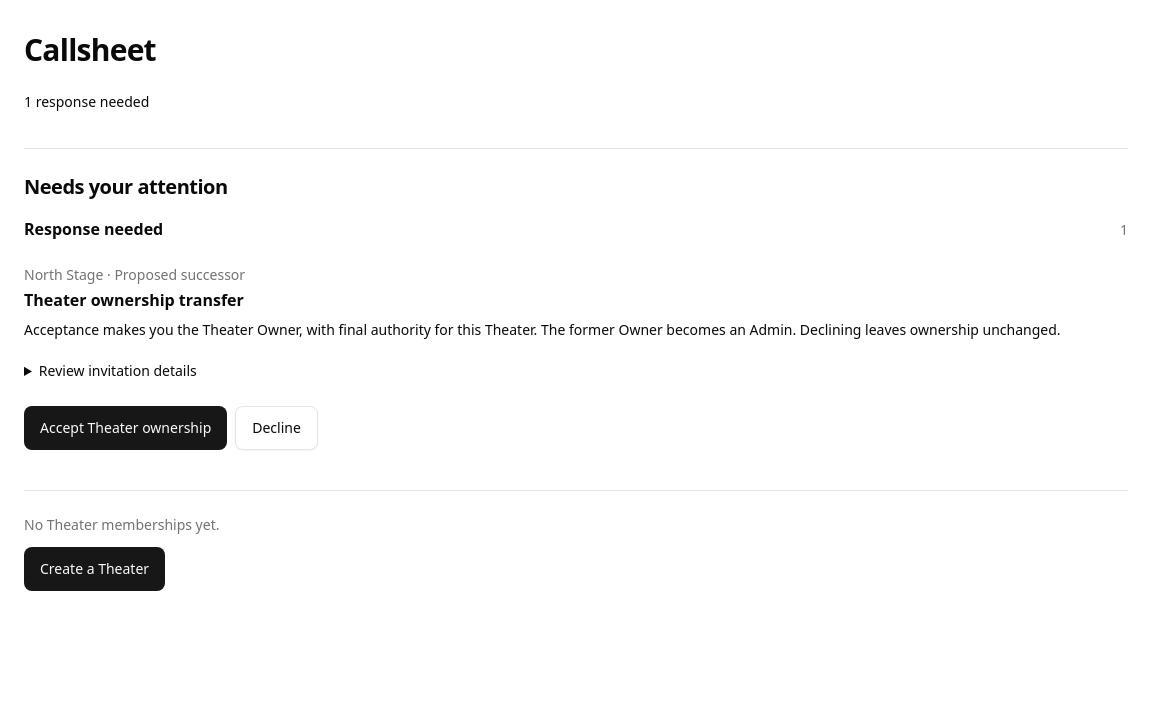
Scenario: explains ownership transfer with the recorded former Owner role admin
The image size is (1152, 720).
Expected: the text "Acceptance makes you the Theater Owner" is shown, [24,320,537,339]
Expected: the text "former Owner becomes an Admin" is shown, [541,320,796,339]
Click the heading "Review invitation details". click: [118, 371]
box: [39,361,197,380]
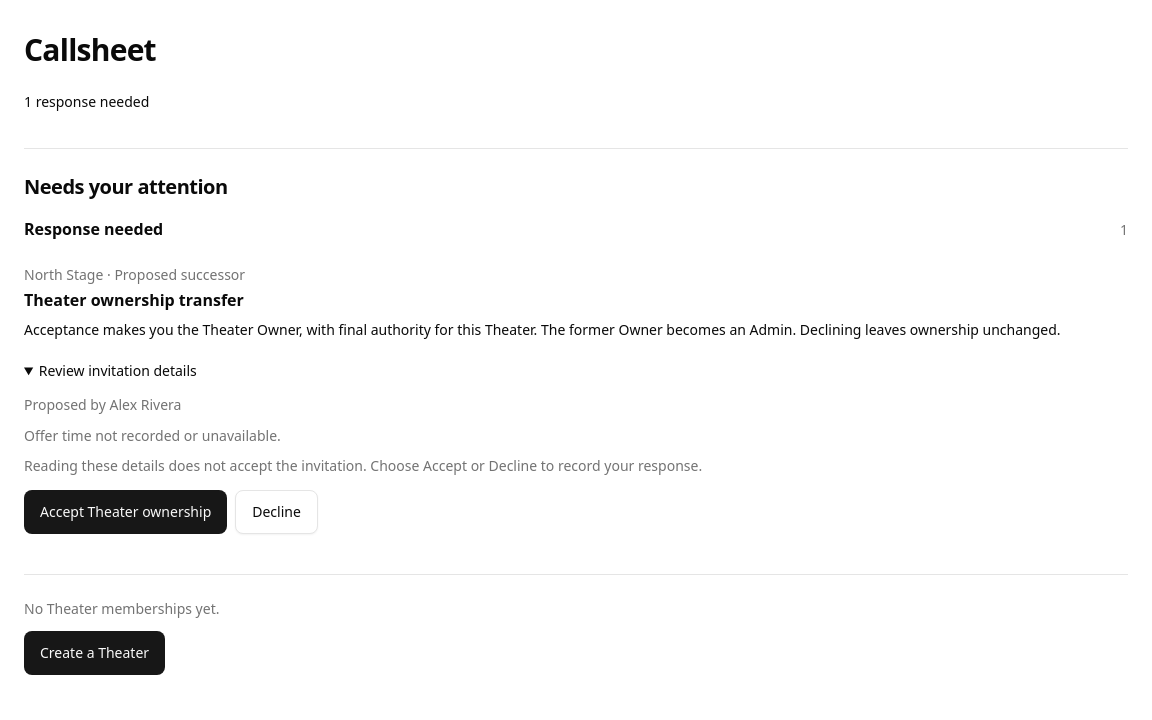
Result: the text "Proposed by Alex Rivera" is shown at [24,395,181,414]
Result: the text "Offer time not recorded or unavailable." is shown at [24,426,281,444]
